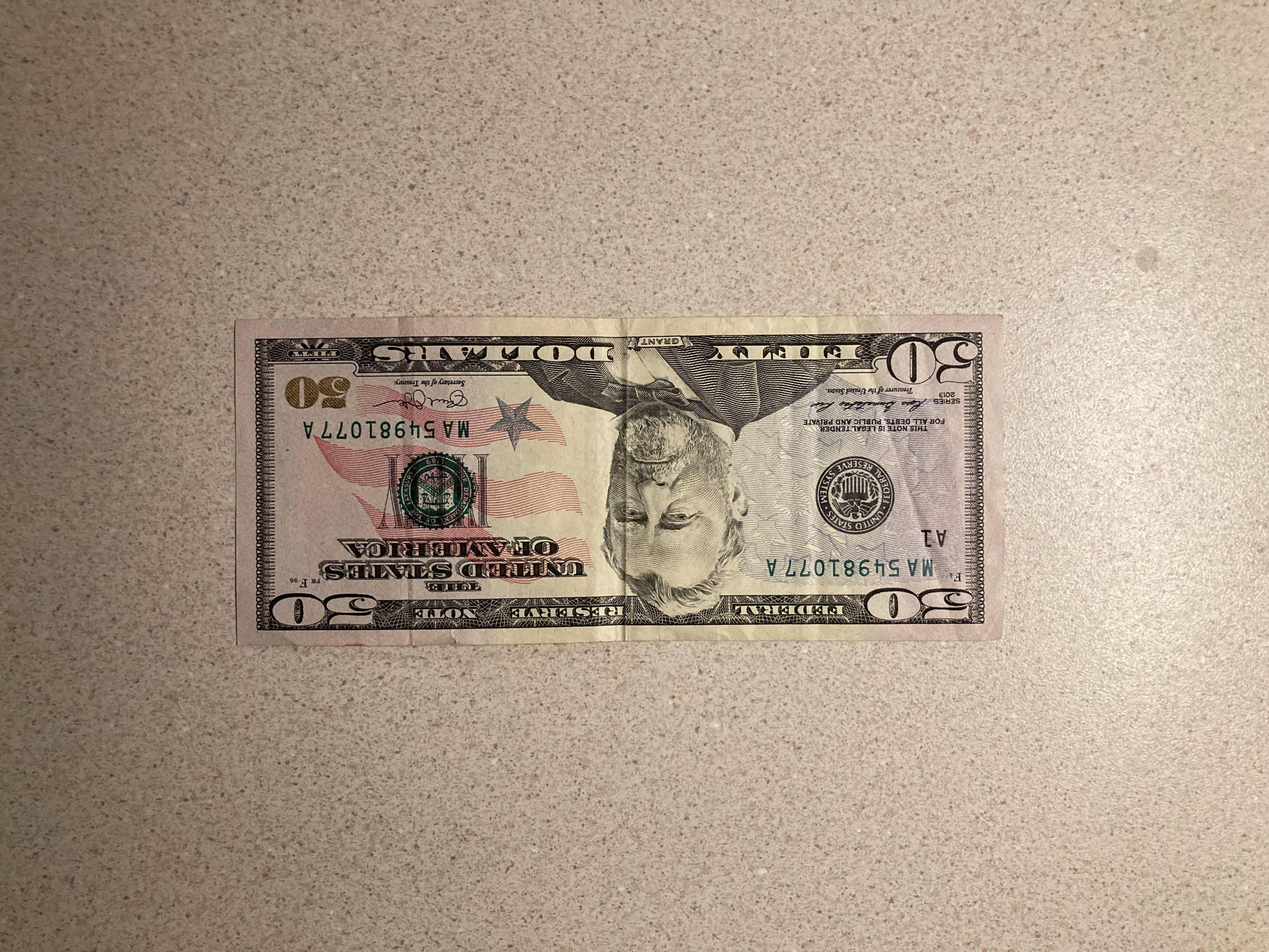fifty-front: (233, 311, 1007, 646)
